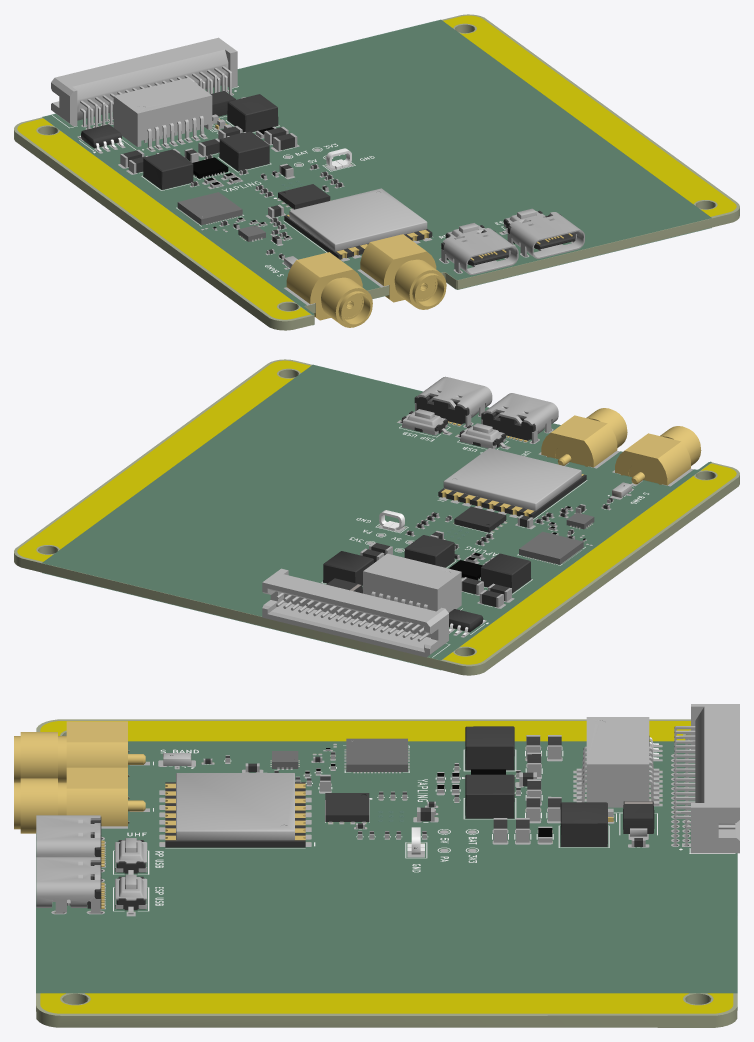
The model's file is yapling.glb.
3 views of the same model, one above another, from view 1: azimuth 30°, elevation 25°; view 2: azimuth 150°, elevation 25°; view 3: azimuth 270°, elevation 25° (orthographic). The views are drawn at different scales.
Visible parts, largest first — view 1: yapling; view 2: yapling; view 3: yapling.
Part boxes in pixels (x1=…): yapling: x1=14, y1=14, x2=739, y2=330; yapling: x1=14, y1=359, x2=739, y2=675; yapling: x1=14, y1=704, x2=739, y2=1027.
Size of the model in its own units: 0.08 by 0.00924 by 0.0828.
